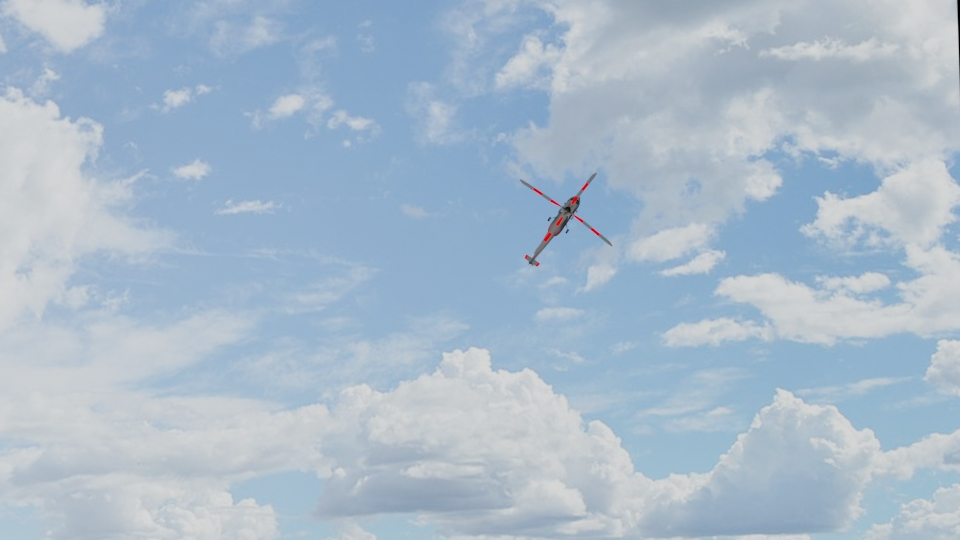heli: (518, 176, 607, 265)
